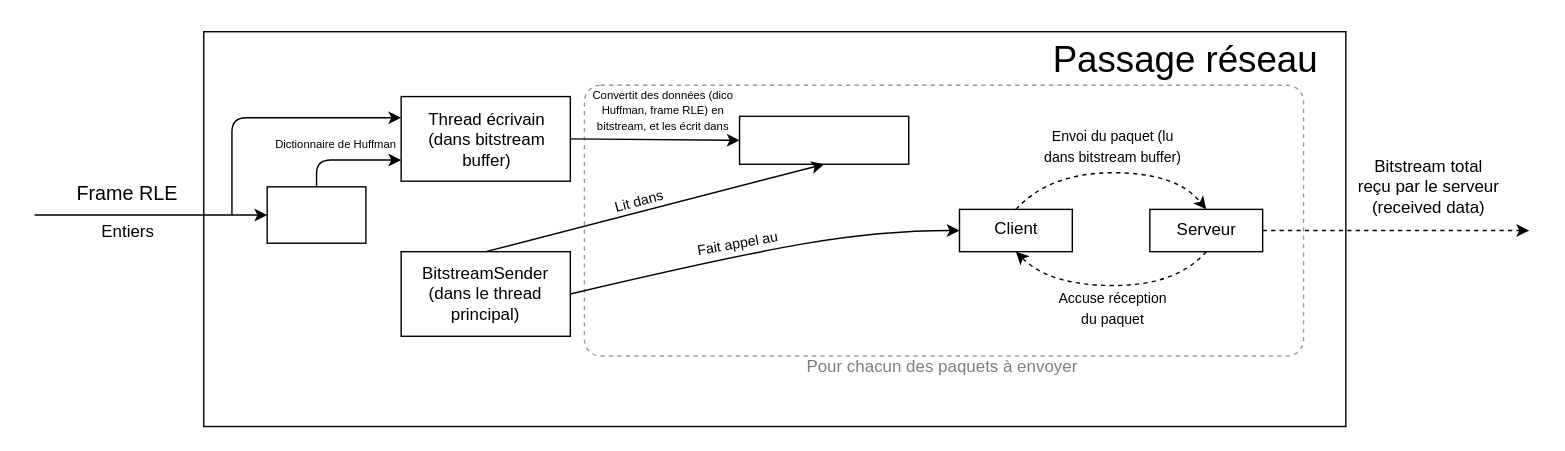
This 1565x451 diagram has some shape labels left out. The shapes that lost their labels are listed below. From the top down, each one's box as (x1, y1, x2, y2) in pixels, then its label:
(738, 115, 909, 164): Bitstream buffer
(266, 185, 366, 243): Huffman
